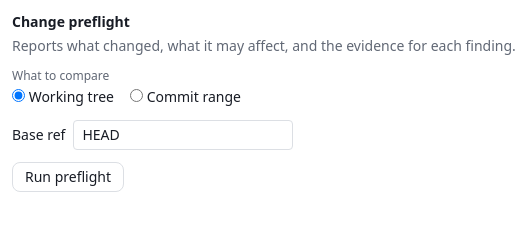
PreflightLauncher › offers a commit range as well as the working tree
Click the radio button labelled "Commit range". click: (136, 96)
box: top-left (130, 89), bottom-right (143, 102)
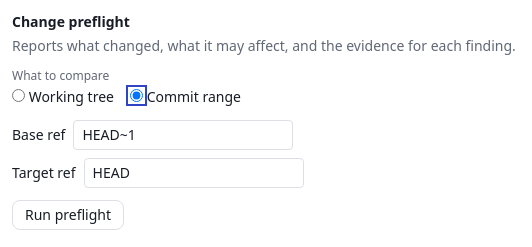
Result: the field labelled "Base ref" holds "HEAD~1" at top-left (73, 120), bottom-right (293, 150)
Result: the field labelled "Target ref" holds "HEAD" at top-left (84, 158), bottom-right (304, 188)
